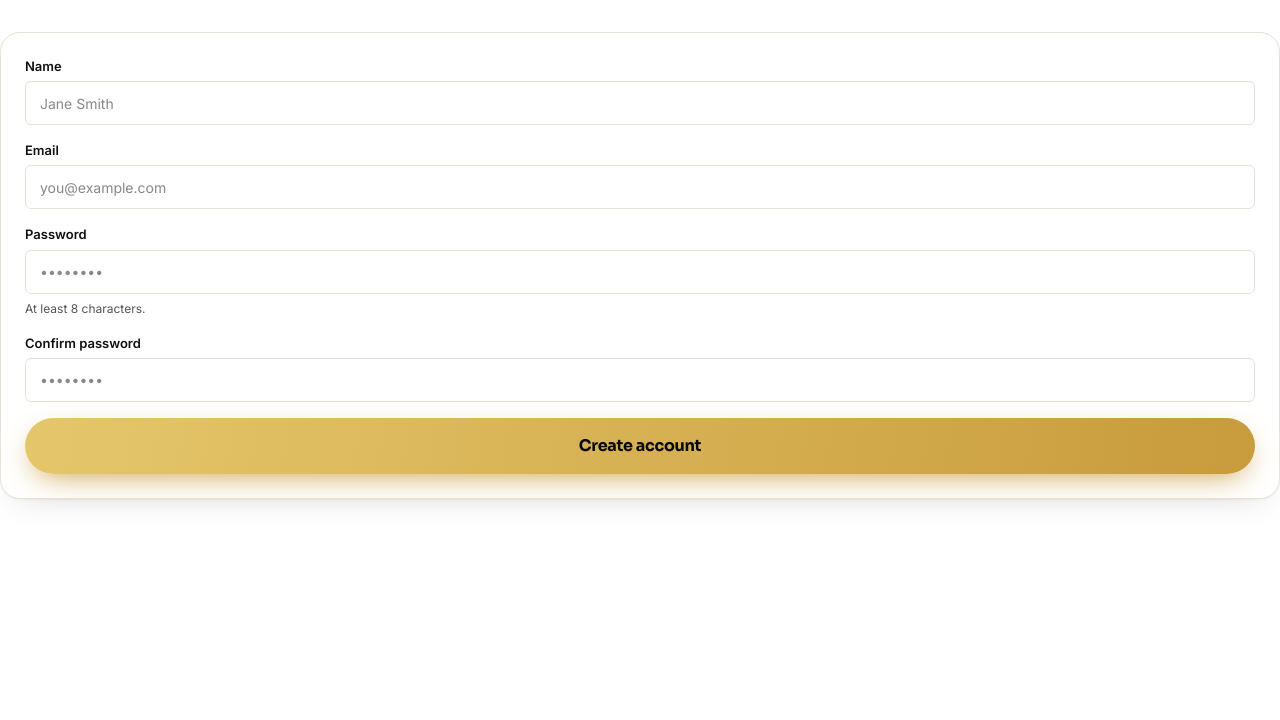
it: RegisterForm › shows server-side validation errors (e.g. duplicate email)
This screenshot has width=1280, height=720.
Type "Jane Doe" into the field labelled "Name" at (640, 103), box [25,81,1255,125]
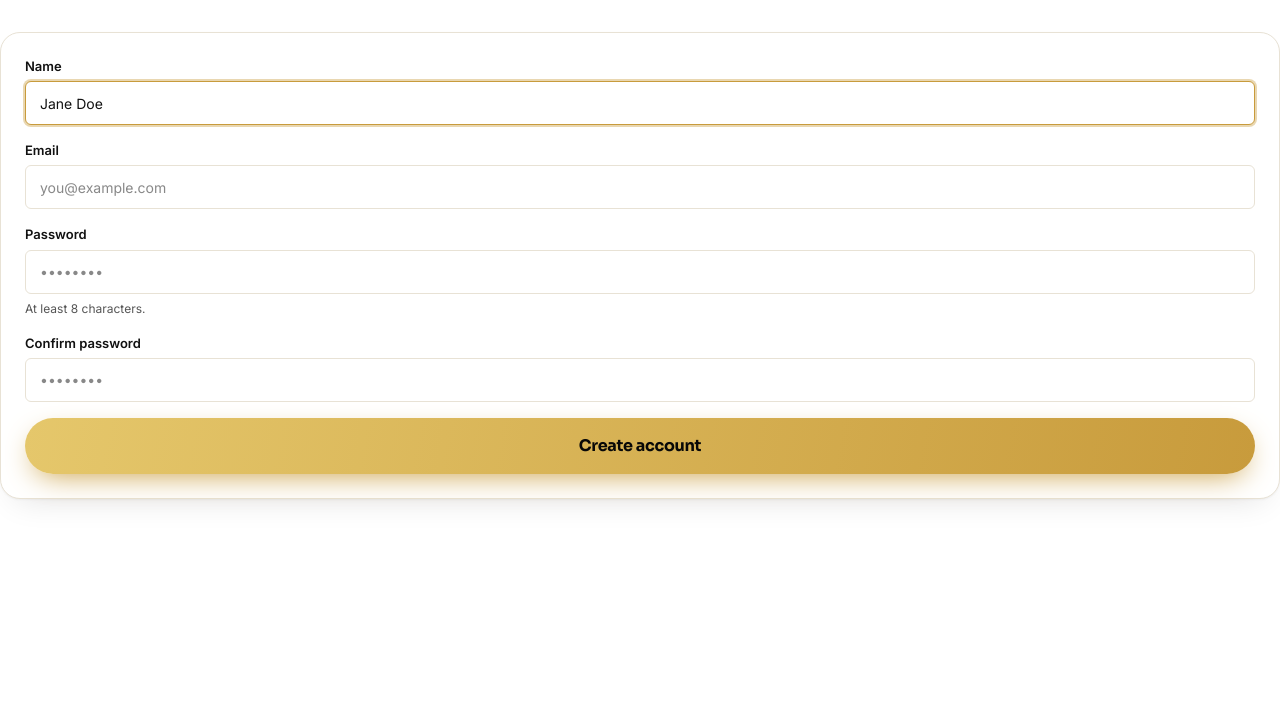
Type "jane@example.com" into the field labelled "Email" at (640, 187), box [25,165,1255,209]
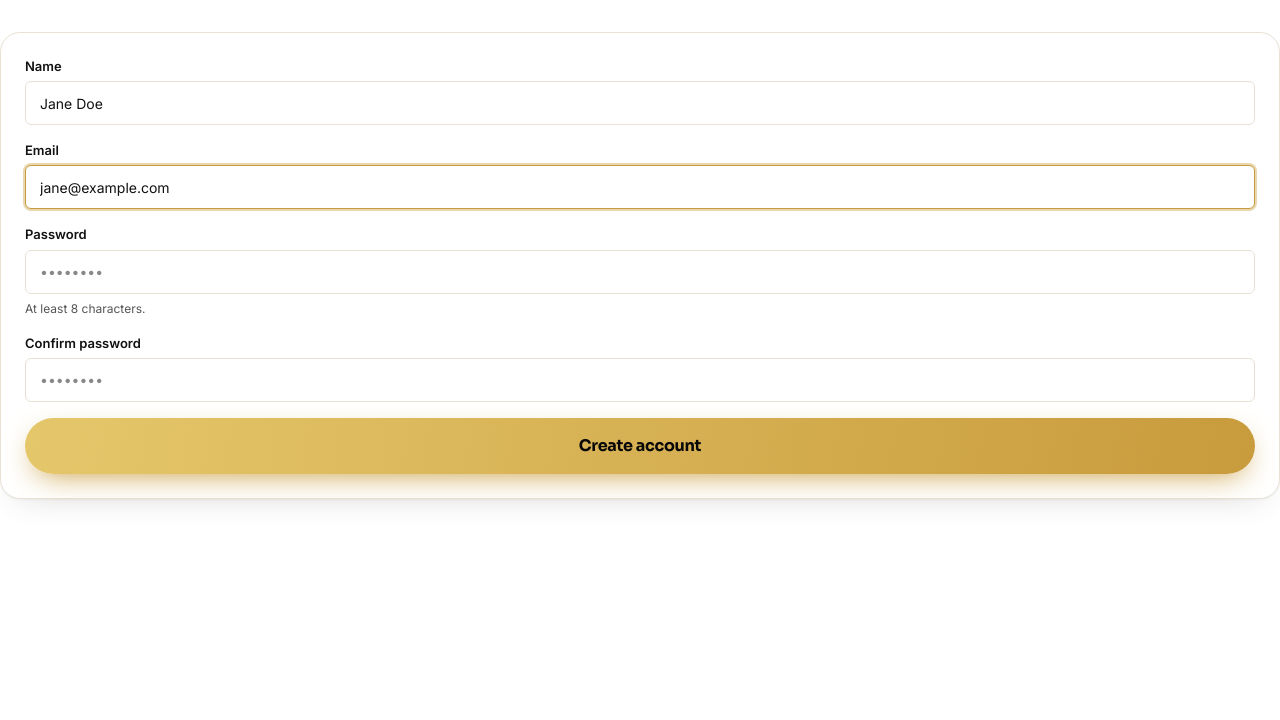
Type "password123" into the password field labelled "Password" at (640, 272), box [25,250,1255,294]
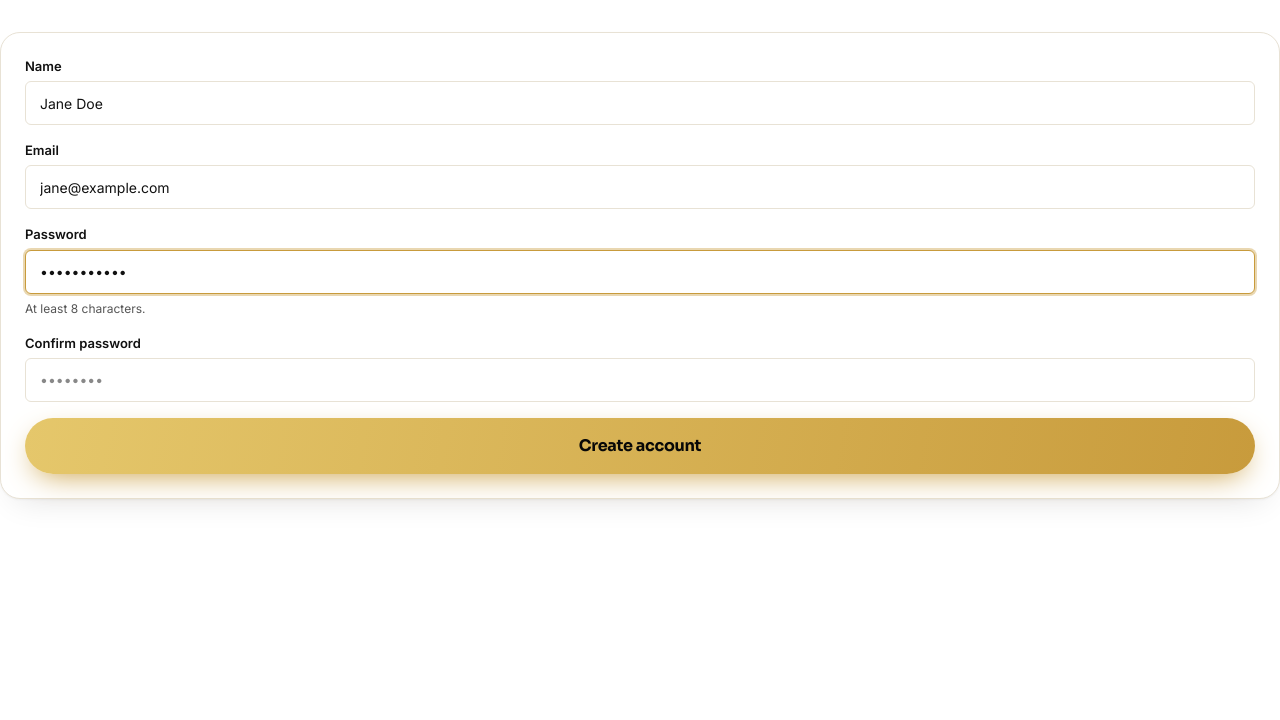
Type "password123" into the password field labelled "Confirm password" at (640, 380), box [25,358,1255,402]
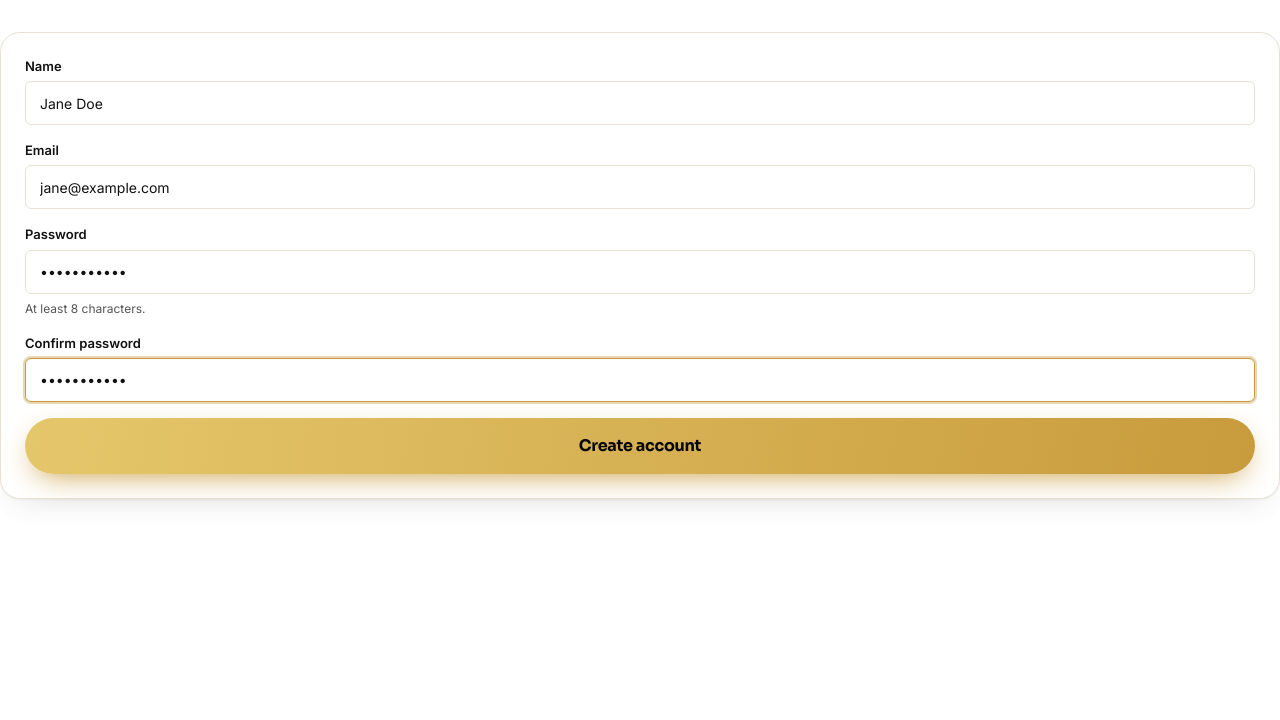
Click the button "Create account" at (640, 446), box [25,418,1255,474]
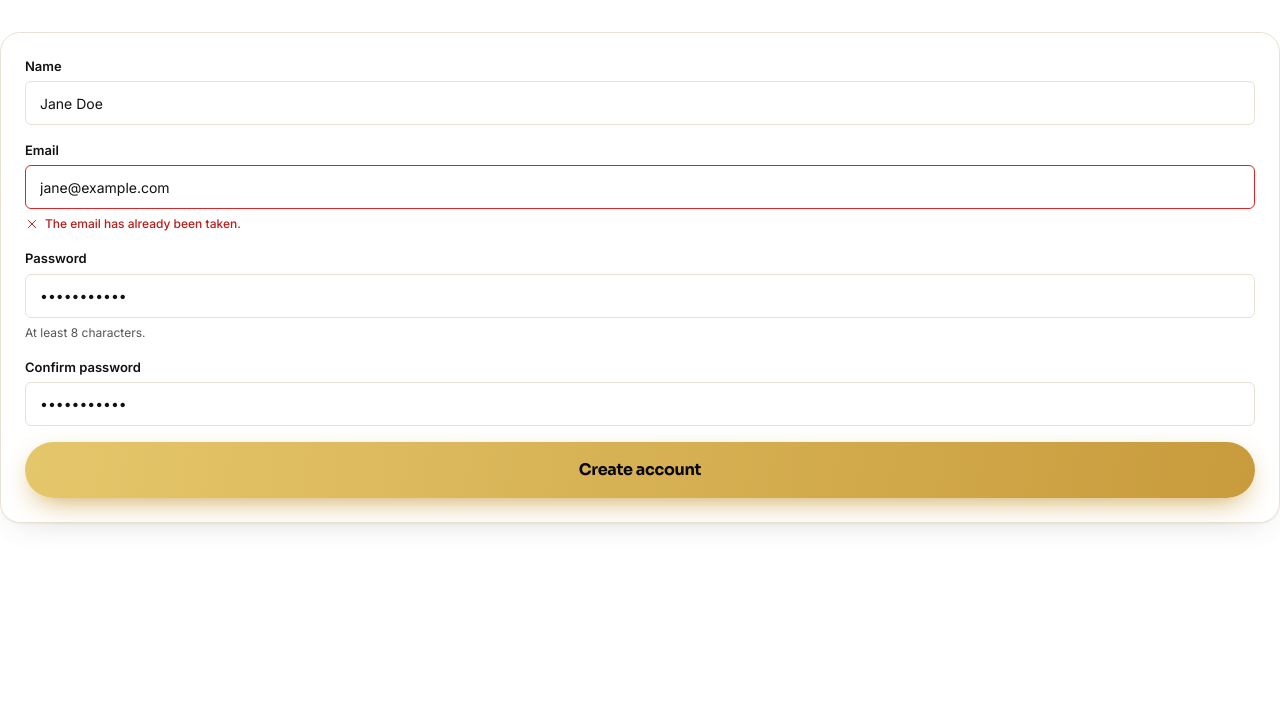
Check: the text "The email has already been taken." is shown, box [25,216,241,231]
